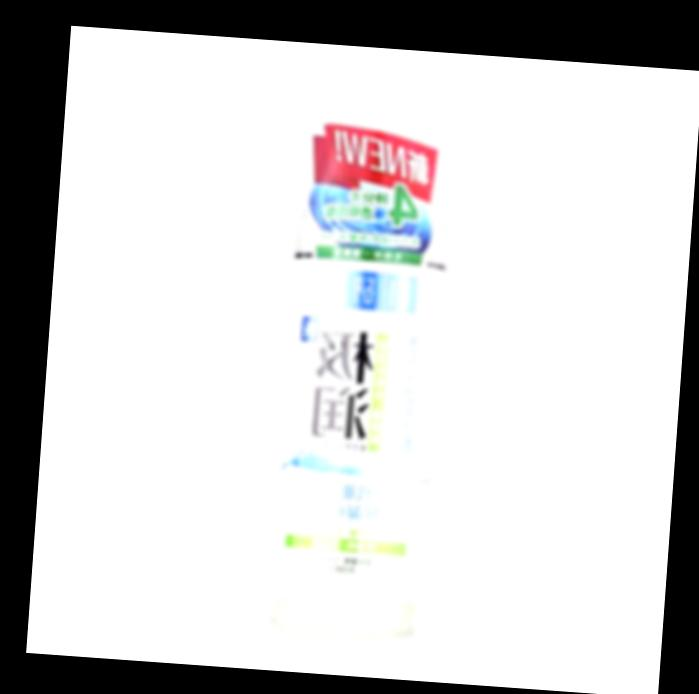cosmetic: (272, 95, 458, 631)
